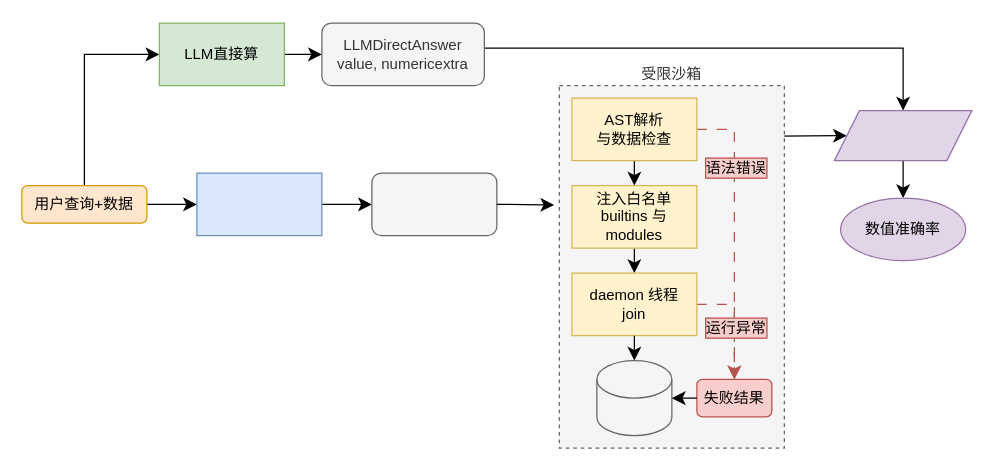
Some shapes in this 994 by 470 pixel diagram are drawn without their labels. Each missing label, with the box of its shape:
代码生成器 与函数调用: (196, 172, 322, 236)
代码生成结果 与推理: (371, 172, 497, 236)
解析结果: (596, 359, 672, 436)
评测器比对: (833, 109, 972, 161)
